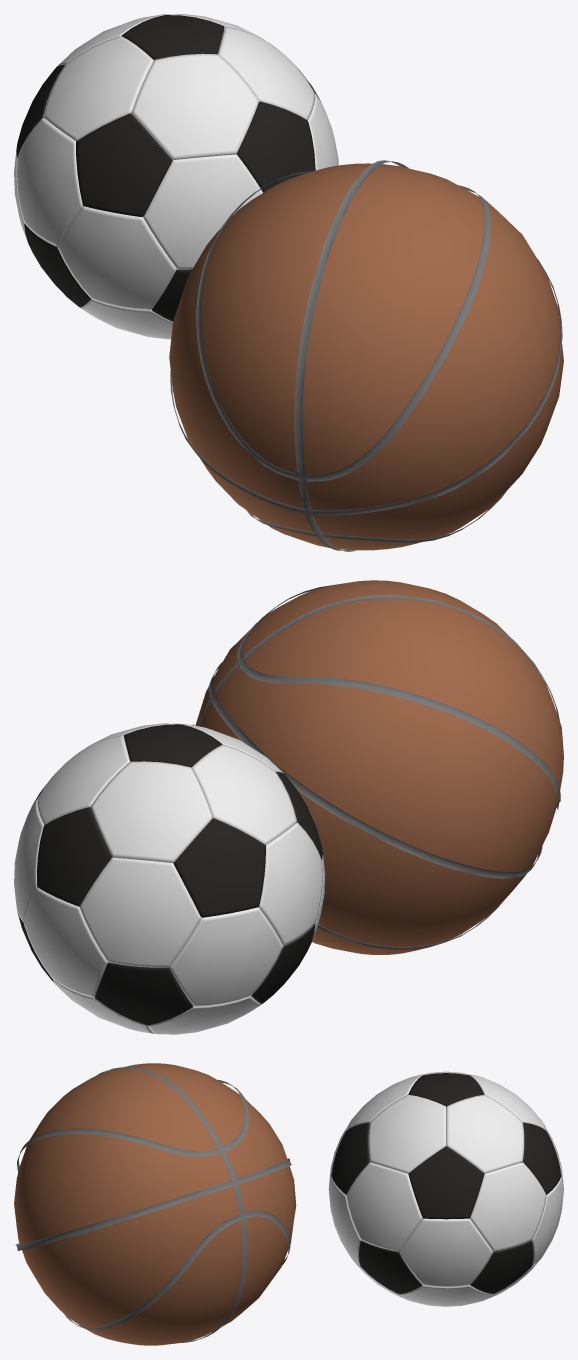
Rendered from balls.fbx.
The picture shows the model from 3 angles, top to bottom: view 1: azimuth 30°, elevation 25°; view 2: azimuth 150°, elevation 25°; view 3: azimuth 270°, elevation 25°; orthographic projection. The views are drawn at different scales.
Parts seen in each view (by area): view 1: basketball, FootballBall, balls; view 2: basketball, FootballBall, balls; view 3: basketball, FootballBall, balls.
Part boxes in pixels (box(x1,y1,x2,y2)): basketball: box(169, 163, 563, 550); FootballBall: box(14, 14, 338, 339); balls: box(170, 160, 562, 551); basketball: box(195, 580, 563, 954); FootballBall: box(14, 723, 325, 1034); balls: box(193, 585, 560, 949); basketball: box(14, 1063, 296, 1345); FootballBall: box(328, 1071, 563, 1306); balls: box(16, 1066, 291, 1342).
Bounding box in the file's own units: 30.23 × 30.31 × 58.45.
